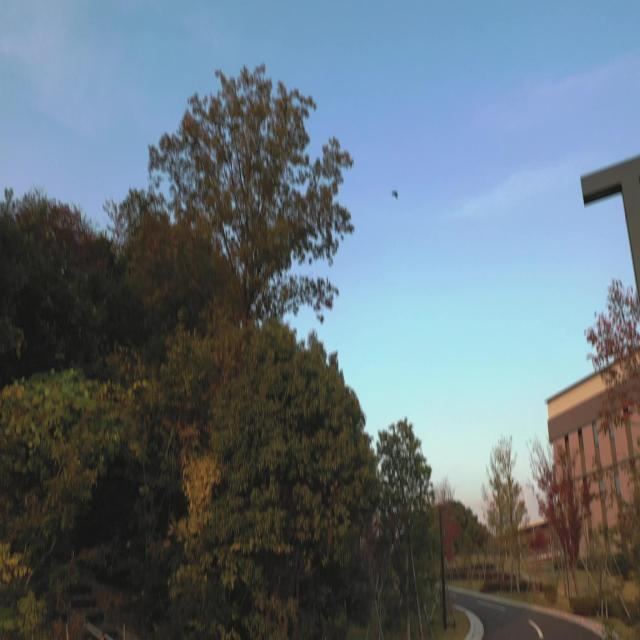Birds: (379, 184, 432, 310)
